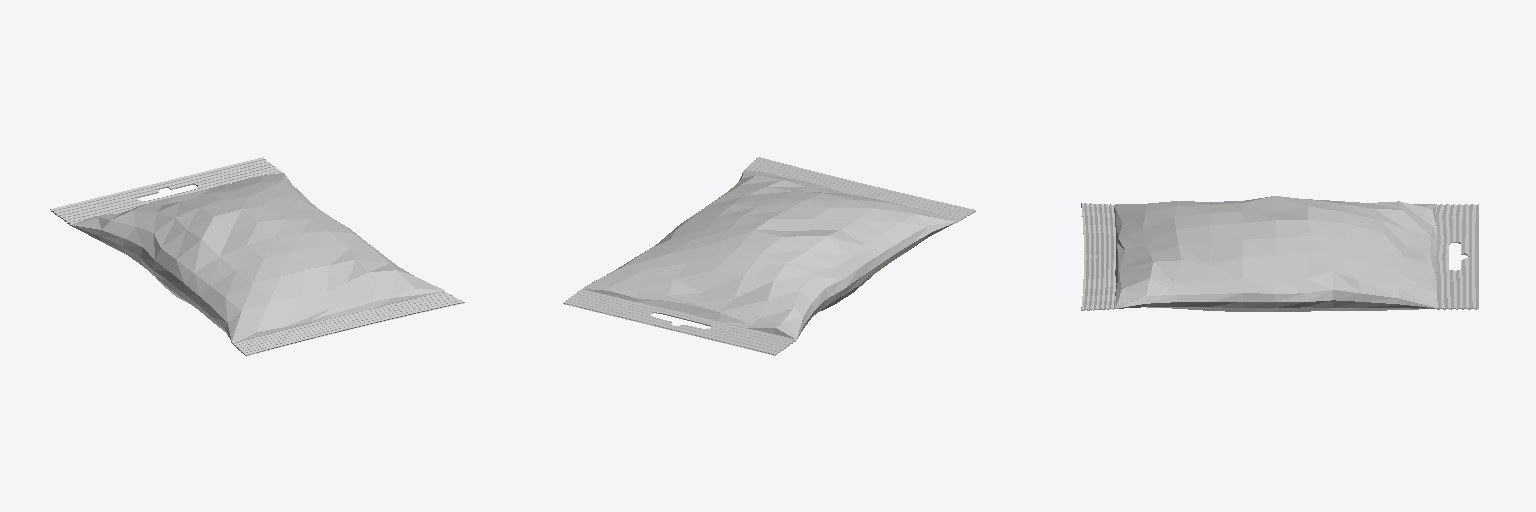
File: pouch sachet.obj
3 views of the same model, side by side, from view 1: azimuth 30°, elevation 25°; view 2: azimuth 150°, elevation 25°; view 3: azimuth 270°, elevation 25° (orthographic).
Parts seen in each view (by area): view 1: Plane; view 2: Plane; view 3: Plane.
Boxes of the visible parts, x1,y1,x2,y2 form: Plane: [50, 157, 464, 356]; Plane: [563, 157, 975, 355]; Plane: [1081, 196, 1478, 311].
Size of the model in its own units: 2.05 by 0.6488 by 3.23.